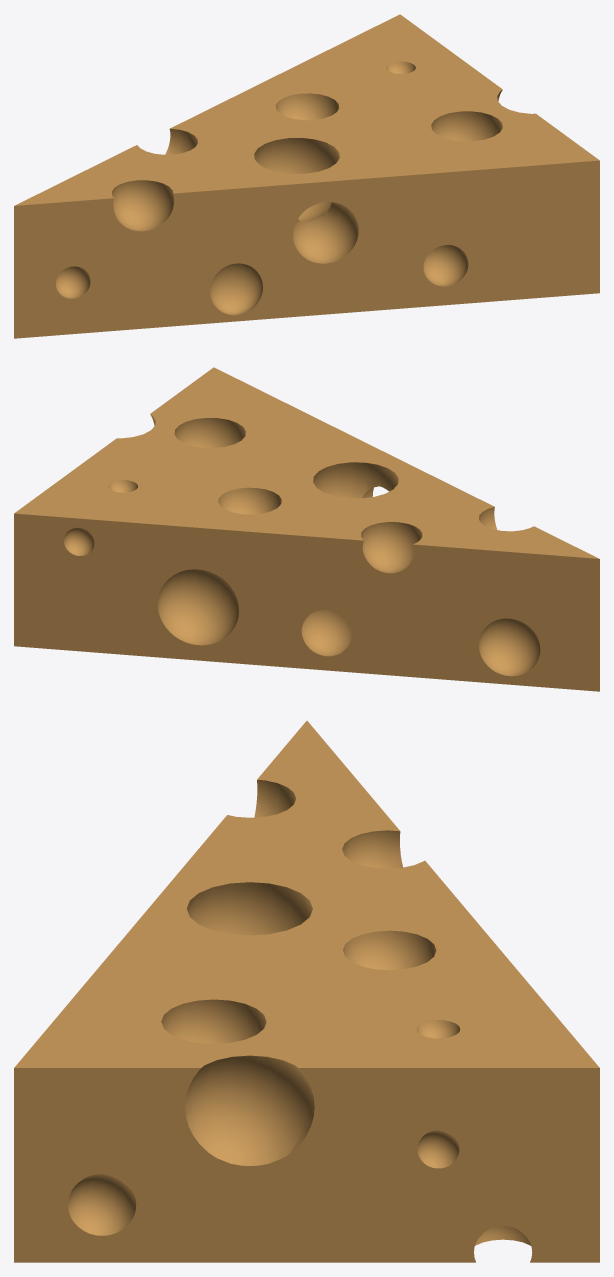
The model's file is CheeseGeo.fbx.
The picture shows the model from 3 angles, top to bottom: view 1: azimuth 30°, elevation 25°; view 2: azimuth 150°, elevation 25°; view 3: azimuth 270°, elevation 25°; orthographic projection. The views are drawn at different scales.
Parts seen in each view (by area): view 1: fromagegeo; view 2: fromagegeo; view 3: fromagegeo.
Boxes of the visible parts, x1=… form: fromagegeo: x1=14, y1=14, x2=599, y2=338; fromagegeo: x1=14, y1=367, x2=599, y2=691; fromagegeo: x1=14, y1=721, x2=599, y2=1262.
Bounding box in the file's own units: 110 × 28.66 × 78.21.
